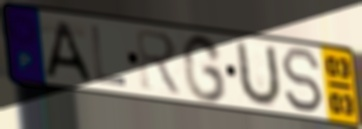A: (43, 18, 95, 85)
G: (180, 32, 228, 104)
L: (88, 23, 129, 89)
R: (133, 26, 185, 98)
S: (279, 46, 325, 115)
U: (235, 39, 284, 109)
